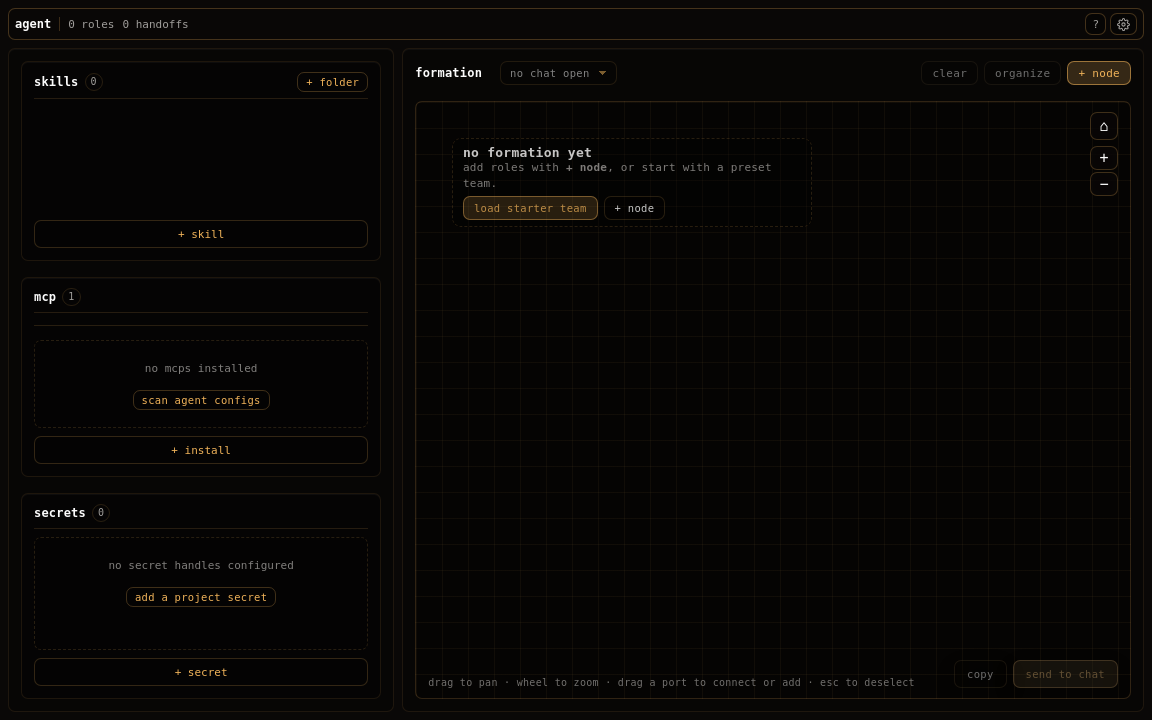
Scenario: AgentPanel integration › builtin_node_presets_default_to_inherited_model
Click the 1st button "+ node" at (1099, 73), box [1068, 61, 1131, 85]
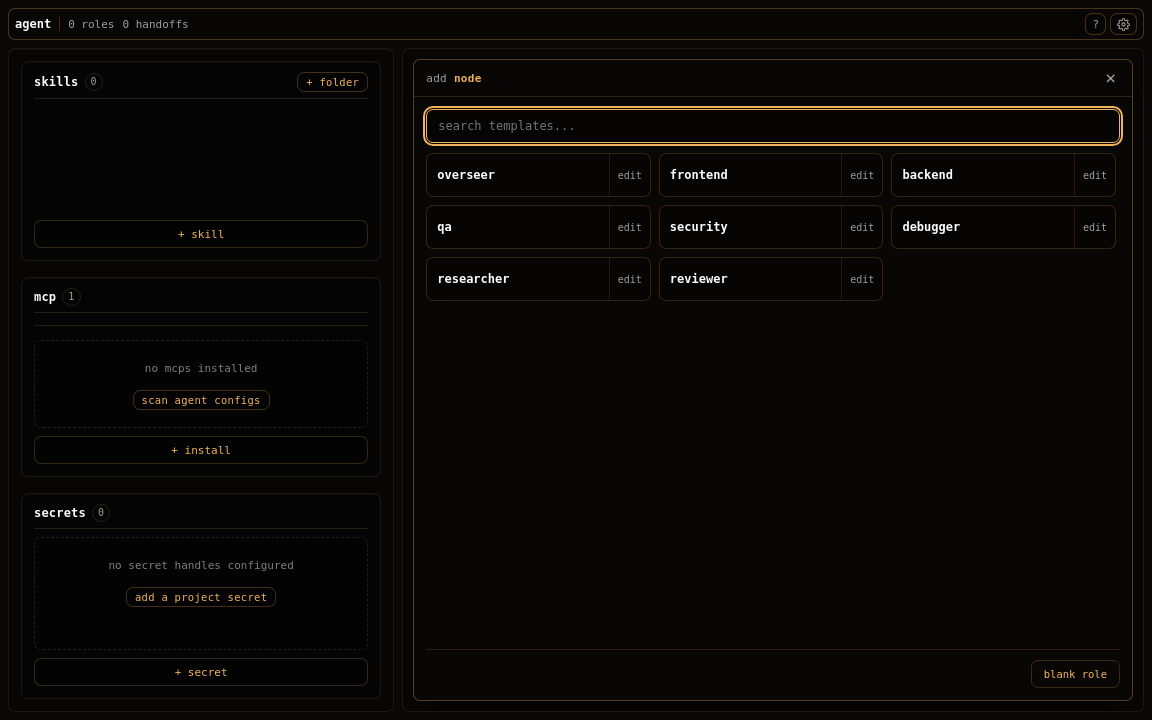
Click the button "frontend" at (751, 175), box [660, 154, 841, 196]
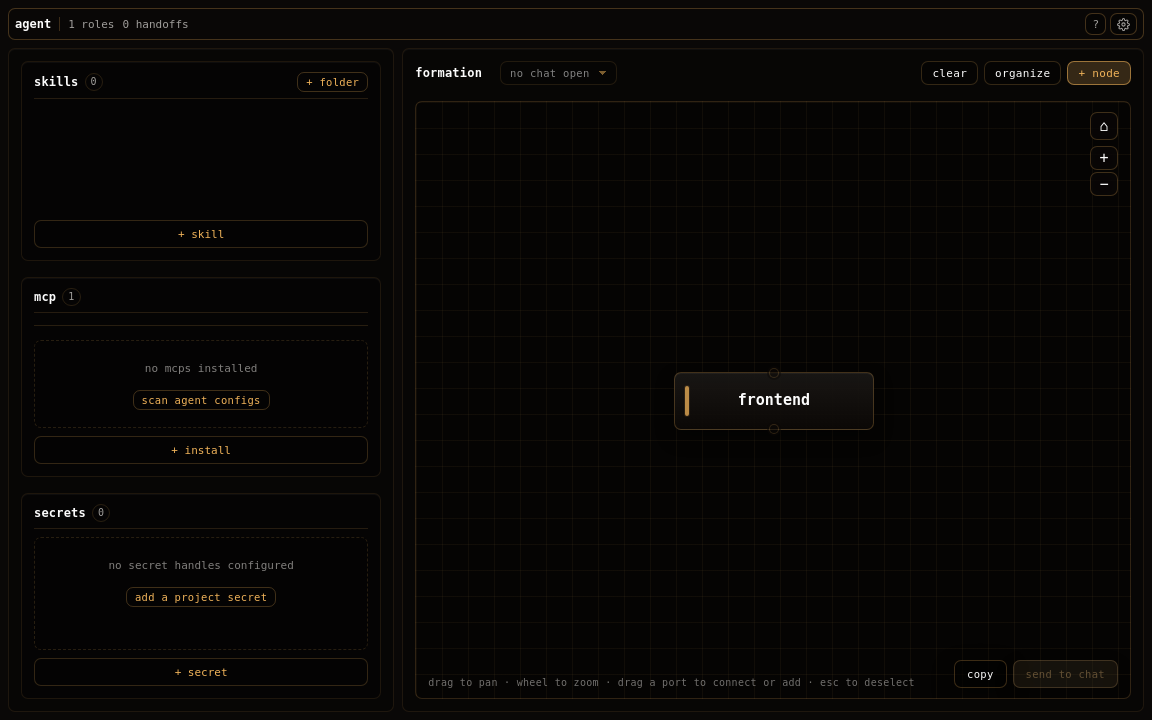
Press the mouse on the button with aria-label "frontend idle" at (774, 401), box [674, 372, 874, 430]
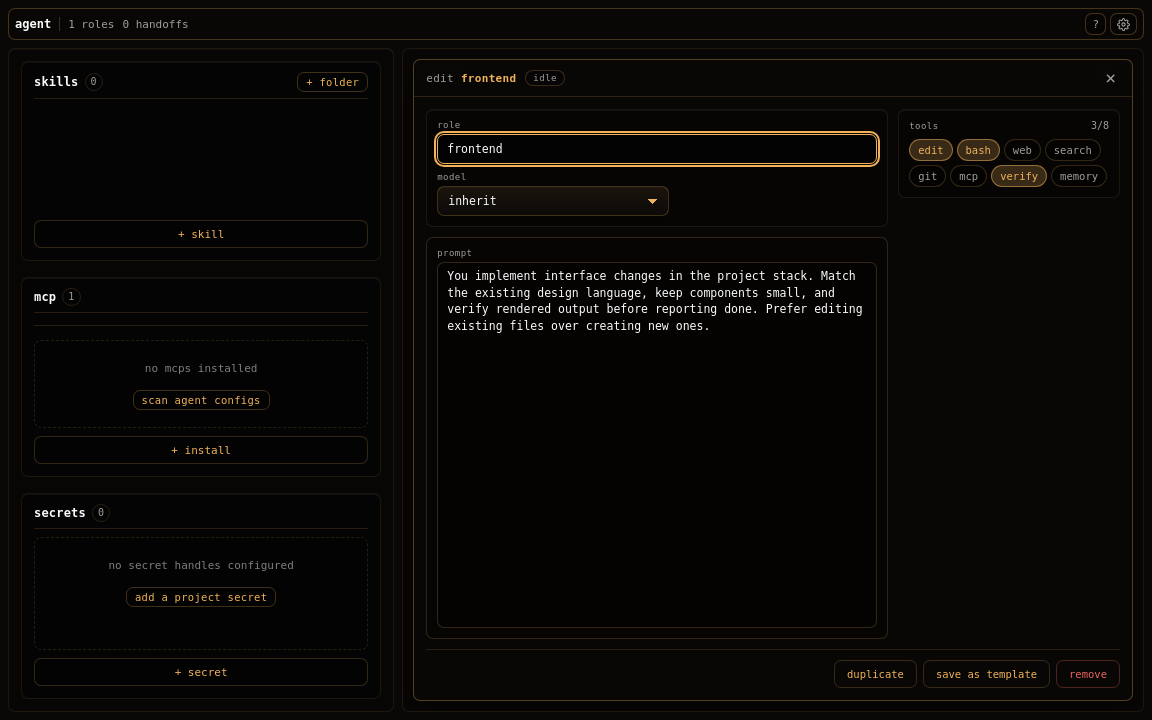
Now the dropdown labelled "model" shows "inherit", box [437, 186, 669, 216]
